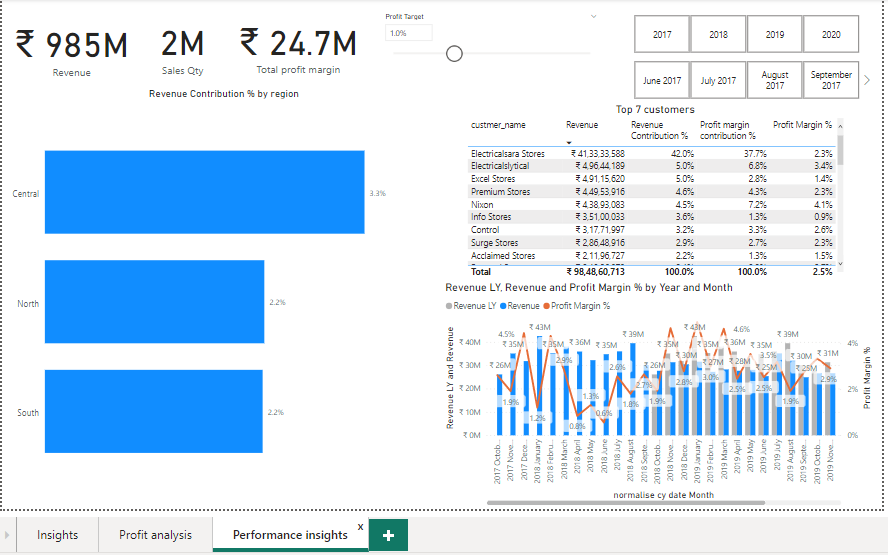

This screenshot's page, from the dashboard's own definition file:
{"tool":"powerbi","page":{"name":"Performance insights","canvas":[1380,800],"ordinal":2},"visuals":[{"type":"card","fields":{"Values":["base measures.Revenue"]},"box":[6.3,6.3,206.3,138.6],"z":0},{"type":"card","fields":{"Values":["base measures.Sales Qty"]},"box":[212.6,3.1,140.2,138.6],"z":1000},{"type":"slicer","fields":{"Values":["sales date.year"]},"box":[966.9,18.9,401.6,72.4],"z":2000},{"type":"slicer","fields":{"Values":["sales date.normalise cy date"]},"box":[966.9,91.3,401.6,72.4],"z":3000},{"type":"tableEx","title":"Top 7 customers","fields":{"Values":["sales customers.custmer_name","base measures.Revenue","base measures.Revenue Contribution %","base measures.Profit margin contribution %","base measures.Profit Margin %"]},"box":[724.4,163.8,600,278.7],"z":4000},{"type":"lineClusteredColumnComboChart","fields":{"Category":["sales date.normalise cy date.Variation.Date Hierarchy.Year","sales date.normalise cy date.Variation.Date Hierarchy.Month"],"Y":["base measures.Revenue LY","base measures.Revenue"],"Y2":["base measures.Profit Margin %"]},"box":[689.8,442.5,678.7,357.5],"z":5000},{"type":"card","fields":{"Values":["base measures.Total_profit_margin"]},"box":[352.8,6.3,223.6,132.3],"z":6000},{"type":"barChart","title":"Revenue Contribution % by region","fields":{"Y":["base measures.Profit Margin %"],"Category":["sales markets.zone","sales markets.markets_name","sales customers.custmer_name"]},"box":[6.3,138.6,683.5,655.1],"z":7000},{"type":"slicer","fields":{"Values":["Profit Target.Profit Target"]},"box":[589,15.7,357.5,148],"z":8000}]}

Visuals, with their boxes on the page's 1380x800 design canvas (x1, y1, x2, y2). These are canvas units, not pixel positions in the 888x555 screenshot, which may show the page scaled, cropped or inside an application window:
card - base measures.Revenue: crop(6, 6, 213, 145)
card - base measures.Sales Qty: crop(213, 3, 353, 142)
slicer - sales date.year: crop(967, 19, 1368, 91)
slicer - sales date.normalise cy date: crop(967, 91, 1368, 164)
"Top 7 customers" tableEx: crop(724, 164, 1324, 442)
lineClusteredColumnComboChart - sales date.normalise cy date.Variation.Date Hierarchy.Year x sales date.normalise cy date.Variation.Date Hierarchy.Month: crop(690, 442, 1368, 800)
card - base measures.Total_profit_margin: crop(353, 6, 576, 139)
"Revenue Contribution % by region" barChart: crop(6, 139, 690, 794)
slicer - Profit Target.Profit Target: crop(589, 16, 946, 164)
